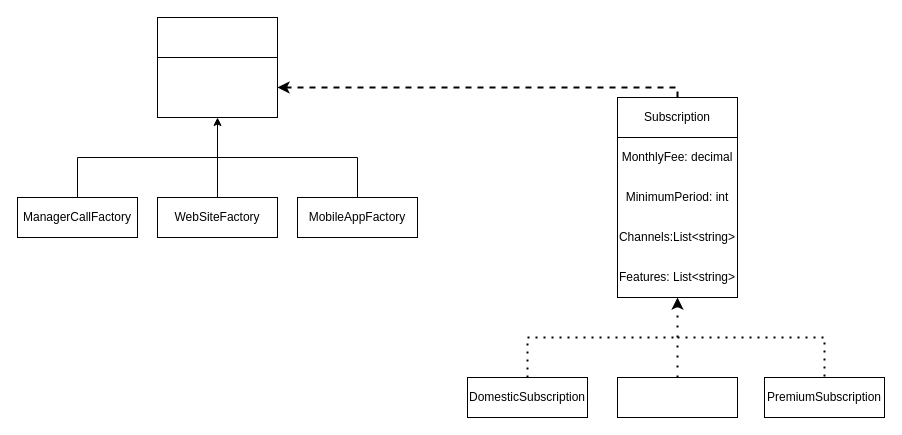
This 902x435 diagram has some shape labels left out. The centre of each missing label's shape, as x and y in pixels:
CreateSubscription (type: string): Subscription: point (217, 87)
EducationalSubscription: point (677, 397)
ISubscriptionFactory: point (217, 37)
